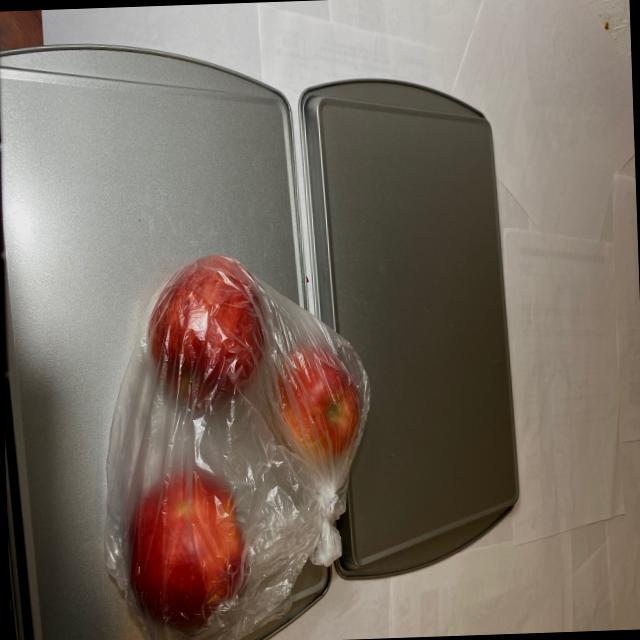apple: (114, 246, 370, 634)
